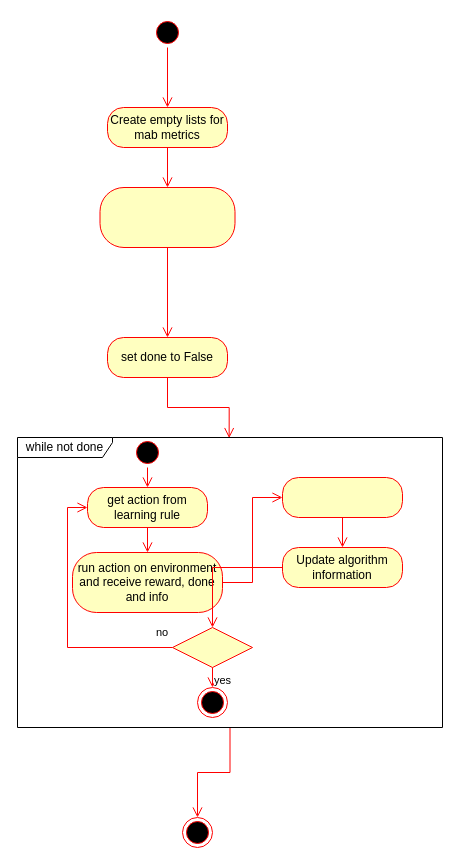
Image size: 460x865. Some labels were removed from this diagram. The centre of each missing label's shape, as x and y in pixels:
done: pixel 212 647
Initialize and reset mab environment and algorithm: pixel 167 217
Update Metric for Mab: pixel 342 497
